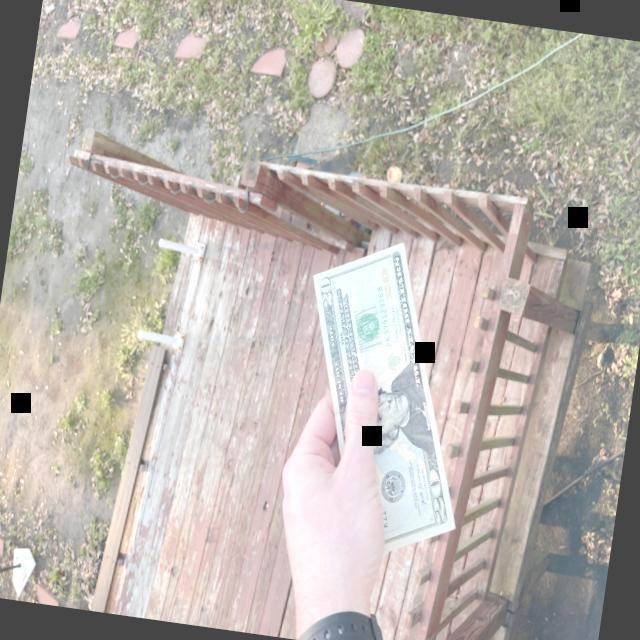twenty: (312, 242, 455, 560)
